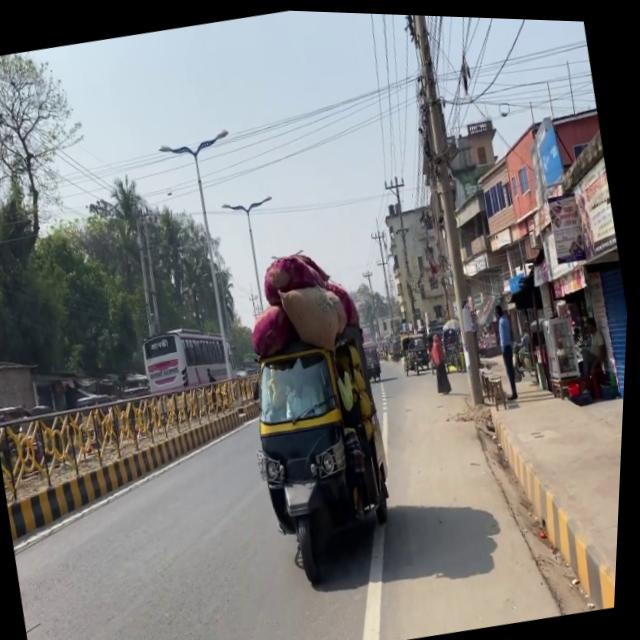Construction-barrier: (469, 399, 604, 622)
Dog: (237, 237, 369, 363)
Fallen-tree: (402, 339, 437, 375)
Garbage-bin: (492, 298, 528, 396), (579, 310, 617, 385), (427, 328, 457, 393)
Light-pole: (391, 12, 504, 405)
Pole: (0, 352, 249, 560)
Pothole: (468, 317, 629, 621)
Traffic-cone: (233, 314, 417, 592), (364, 336, 387, 380)
